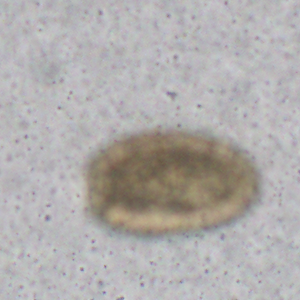Fasciola_hepatica_egg: (84, 129, 262, 236)
